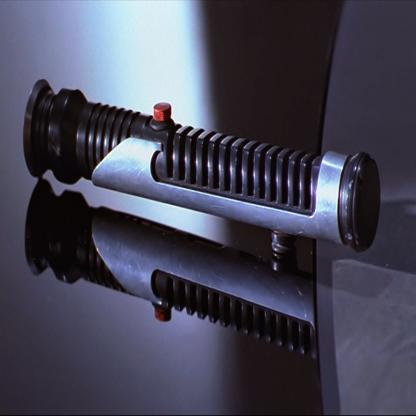lightsaber: (16, 59, 392, 258)
